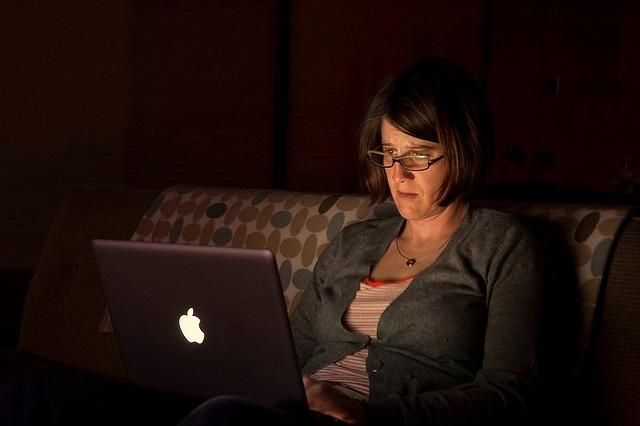apple: (180, 308, 204, 343)
